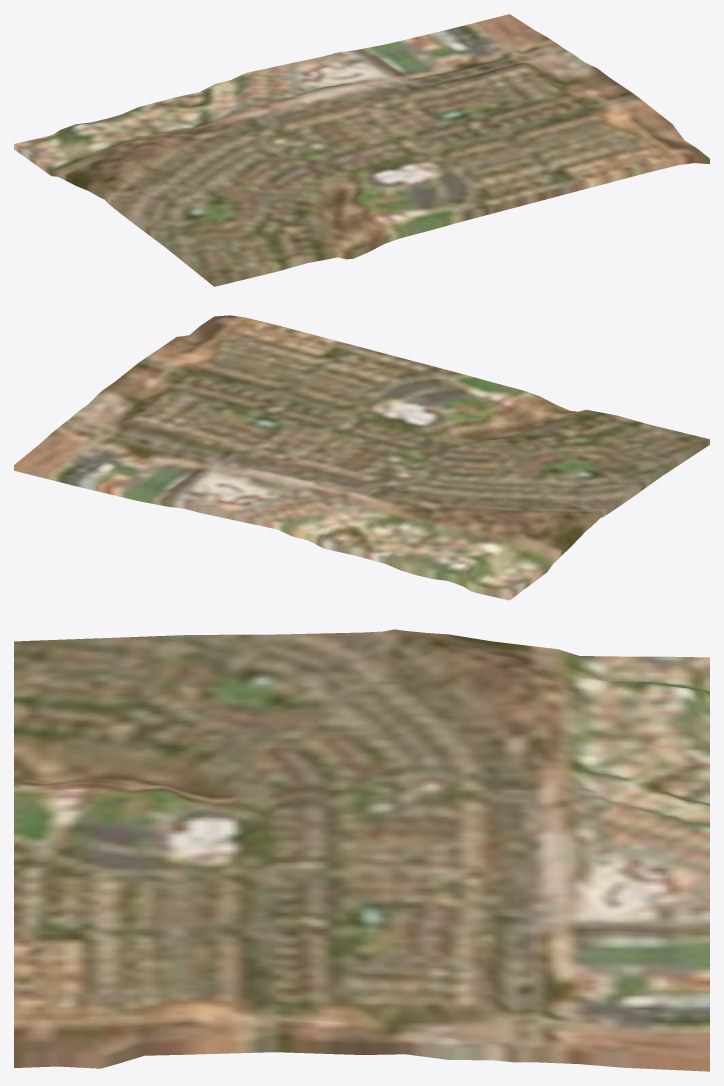
File: terrain_r3_c2_lod2.glb
3 renders of one model, top to bottom at view 1: azimuth 30°, elevation 25°; view 2: azimuth 150°, elevation 25°; view 3: azimuth 270°, elevation 25°, orthographic. The views are drawn at different scales.
Parts seen in each view (by area): view 1: terrain_r3_c2_lod2; view 2: terrain_r3_c2_lod2; view 3: terrain_r3_c2_lod2.
Part boxes in pixels (<box>): terrain_r3_c2_lod2: <box>14,14,709,286</box>; terrain_r3_c2_lod2: <box>14,315,709,600</box>; terrain_r3_c2_lod2: <box>14,629,709,1071</box>.
Bounding box in the file's own units: 1125 × 56.86 × 787.
Materials: 1 (1 with a texture image).
